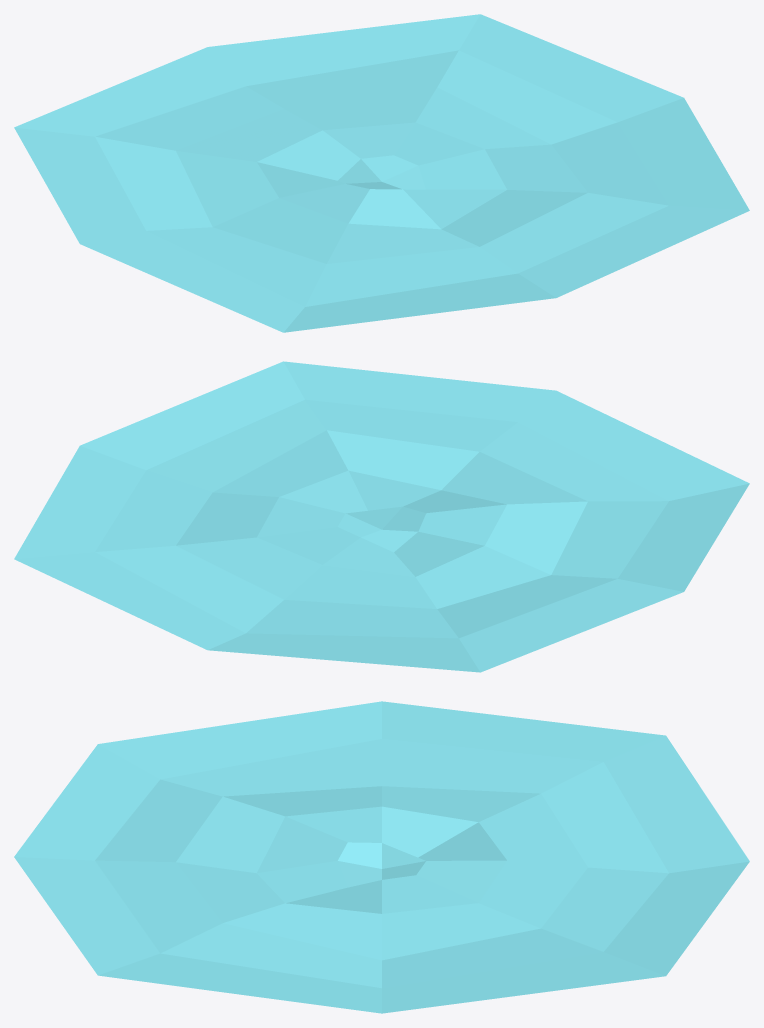
Rendered from Water.fbx.
3 renders of one model, top to bottom at view 1: azimuth 30°, elevation 25°; view 2: azimuth 150°, elevation 25°; view 3: azimuth 270°, elevation 25°, orthographic. The views are drawn at different scales.
Parts seen in each view (by area): view 1: Water_Cup_Water; view 2: Water_Cup_Water; view 3: Water_Cup_Water.
Boxes of the visible parts, left/top/right/bottom form: Water_Cup_Water: left=14, top=14, right=749, bottom=332; Water_Cup_Water: left=14, top=361, right=749, bottom=672; Water_Cup_Water: left=14, top=701, right=749, bottom=1013.
Size of the model in its own units: 89.32 by 2.38 by 89.32.
